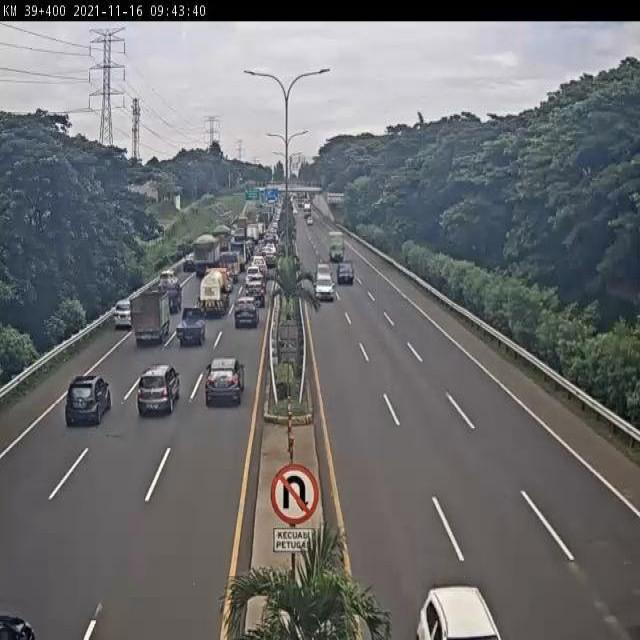car: (410, 577, 503, 640), (63, 373, 112, 432), (136, 363, 182, 420), (202, 356, 248, 412), (176, 304, 210, 349), (233, 296, 261, 331), (160, 280, 185, 313), (312, 273, 337, 303), (112, 300, 133, 333), (244, 279, 267, 308), (155, 268, 177, 293), (336, 260, 356, 285), (244, 265, 264, 288), (315, 262, 334, 286), (180, 253, 197, 276), (246, 275, 267, 293), (251, 253, 266, 272), (264, 251, 278, 268)
small truck: (130, 291, 175, 348), (196, 267, 233, 321), (215, 249, 242, 287), (325, 229, 346, 260)
truck-m-: (192, 234, 222, 278), (212, 223, 232, 252)
